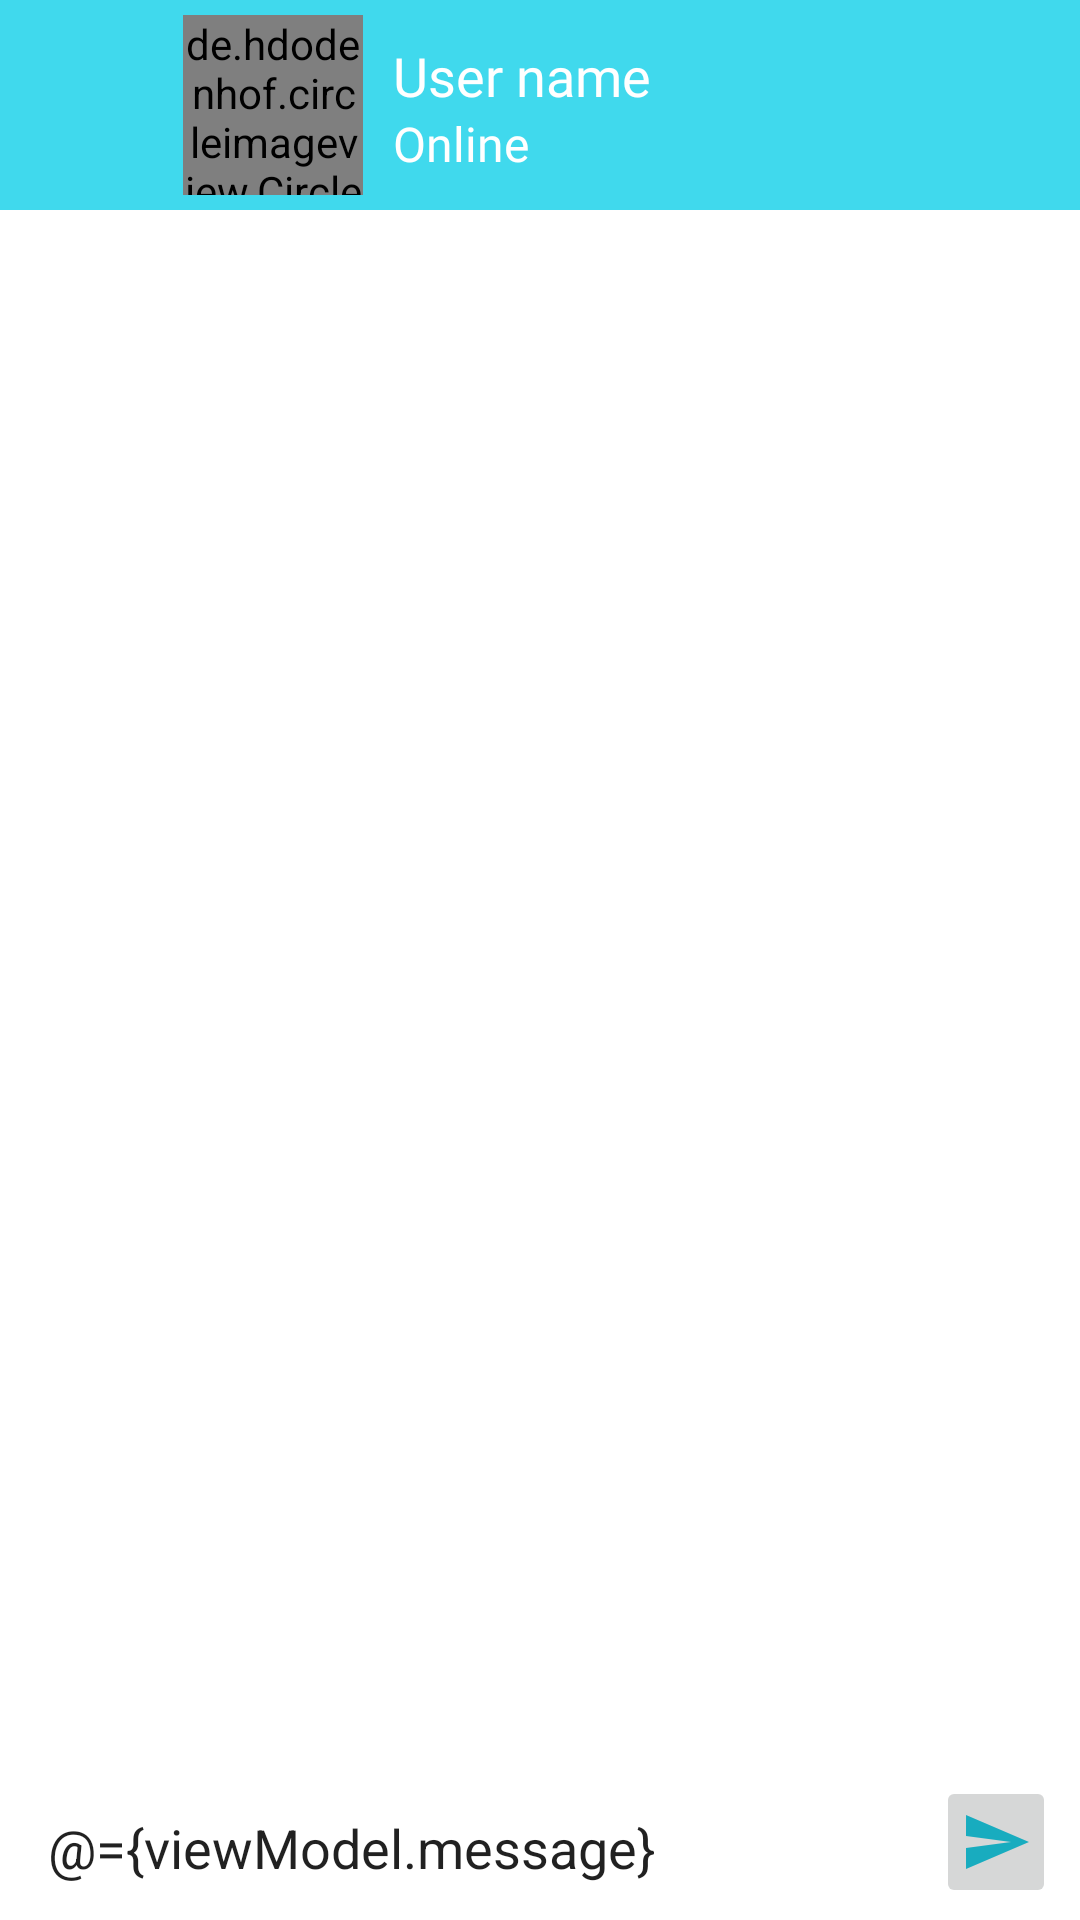

Locate icon controls on the screen. Image size 1080×1920, boxes as (x1, y1, x2, y2).
send: (948, 1794, 1044, 1890)
